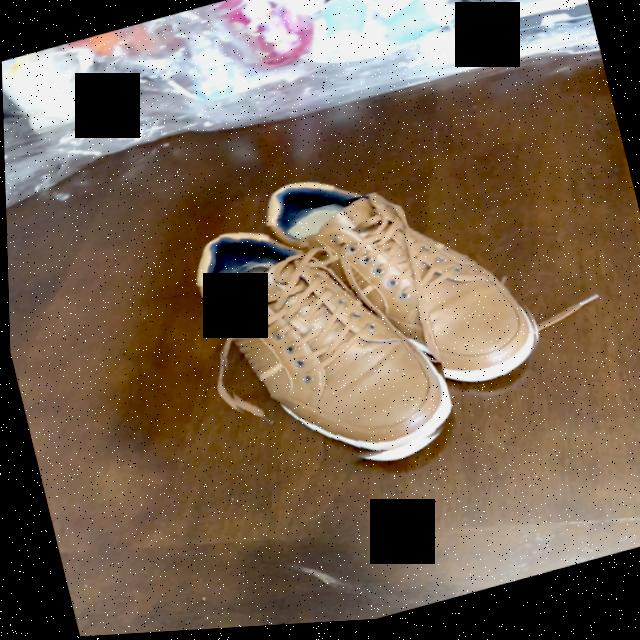shoe: (261, 187, 536, 394), (196, 237, 449, 452)
